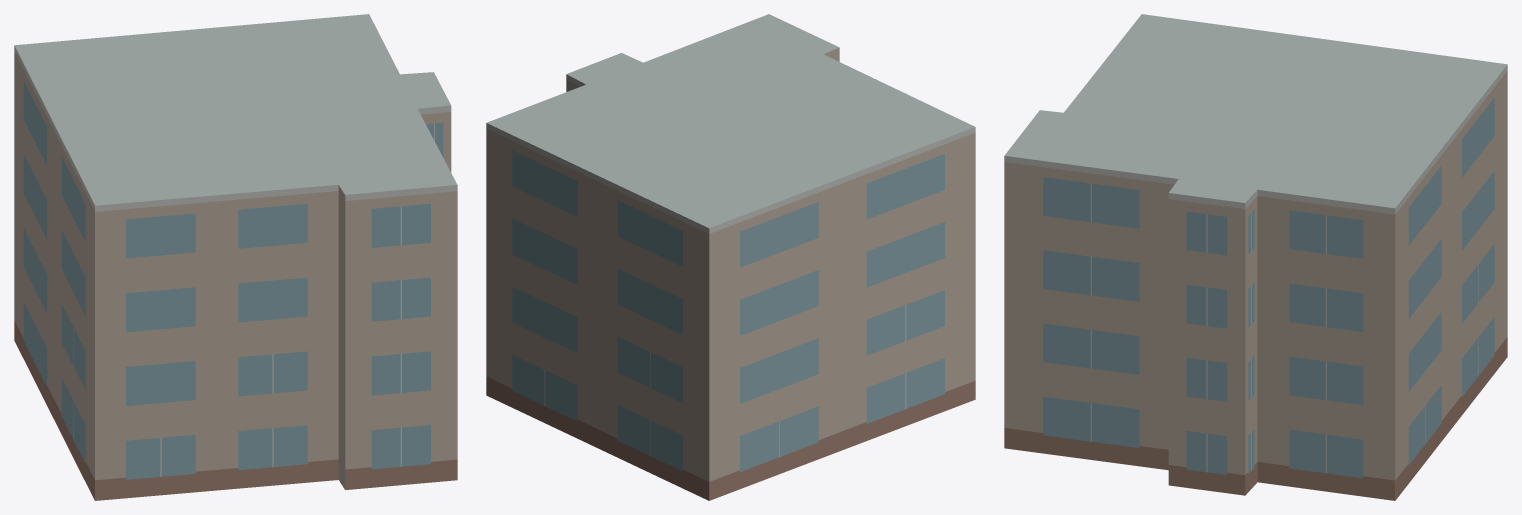
File: survey-upis-32480479.glb
3 views of the same model, side by side, from view 1: azimuth 30°, elevation 25°; view 2: azimuth 150°, elevation 25°; view 3: azimuth 270°, elevation 25° (orthographic). The views are drawn at different scales.
Parts seen in each view (by area): view 1: survey-upis-32480479.tmp; view 2: survey-upis-32480479.tmp; view 3: survey-upis-32480479.tmp.
Boxes of the visible parts, x1,y1,x2,y2 form: survey-upis-32480479.tmp: [14, 14, 457, 500]; survey-upis-32480479.tmp: [486, 14, 975, 500]; survey-upis-32480479.tmp: [1004, 14, 1507, 500].
Bounding box in the file's own units: 16.54 × 11.6 × 18.1.
